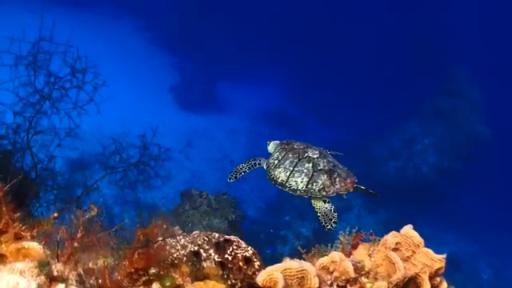Fish: (228, 140, 376, 230)
